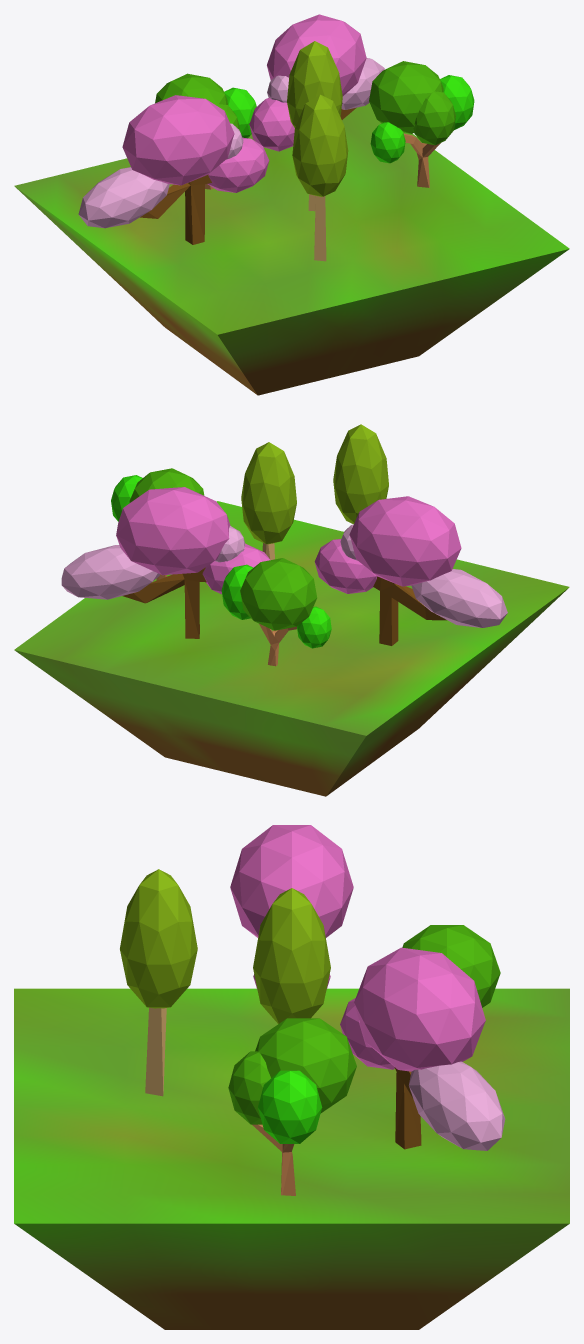
The picture shows the model from 3 angles, top to bottom: view 1: azimuth 30°, elevation 25°; view 2: azimuth 150°, elevation 25°; view 3: azimuth 270°, elevation 25°; orthographic projection. The views are drawn at different scales.
Visible parts, largest first — view 1: Base.006, Tree3 - 2.012, Tree1 - 2.012, Tree3 - 2.013, Tree2 - 2.013, Tree2 - 2.012, Tree1 - 2.013; view 2: Base.006, Tree3 - 2.012, Tree3 - 2.013, Tree1 - 2.013, Tree2 - 2.012, Tree2 - 2.013, Tree1 - 2.012; view 3: Base.006, Tree3 - 2.013, Tree1 - 2.012, Tree2 - 2.013, Tree3 - 2.012, Tree2 - 2.012, Tree1 - 2.013.
Boxes of the visible parts, box(x1,y1,x2,y2) form: Base.006: box(14, 103, 569, 395); Tree3 - 2.012: box(78, 95, 269, 244); Tree1 - 2.012: box(369, 61, 474, 187); Tree3 - 2.013: box(249, 14, 384, 151); Tree2 - 2.013: box(292, 94, 348, 261); Tree2 - 2.012: box(287, 41, 342, 211); Tree1 - 2.013: box(155, 73, 256, 189); Base.006: box(14, 501, 569, 796); Tree3 - 2.012: box(314, 496, 507, 645); Tree3 - 2.013: box(61, 487, 270, 638); Tree1 - 2.013: box(221, 558, 331, 666); Tree2 - 2.012: box(241, 442, 296, 559); Tree2 - 2.013: box(333, 424, 388, 524); Tree1 - 2.012: box(111, 468, 204, 580); Base.006: box(14, 988, 569, 1329); Tree3 - 2.013: box(340, 947, 505, 1150); Tree1 - 2.012: box(228, 1018, 356, 1195); Tree2 - 2.013: box(120, 869, 197, 1096); Tree3 - 2.012: box(230, 825, 353, 989); Tree2 - 2.012: box(253, 888, 330, 1023); Tree1 - 2.013: box(402, 925, 500, 1007).
Bounding box in the file's own units: 15.85 × 11.5 × 14.36.
